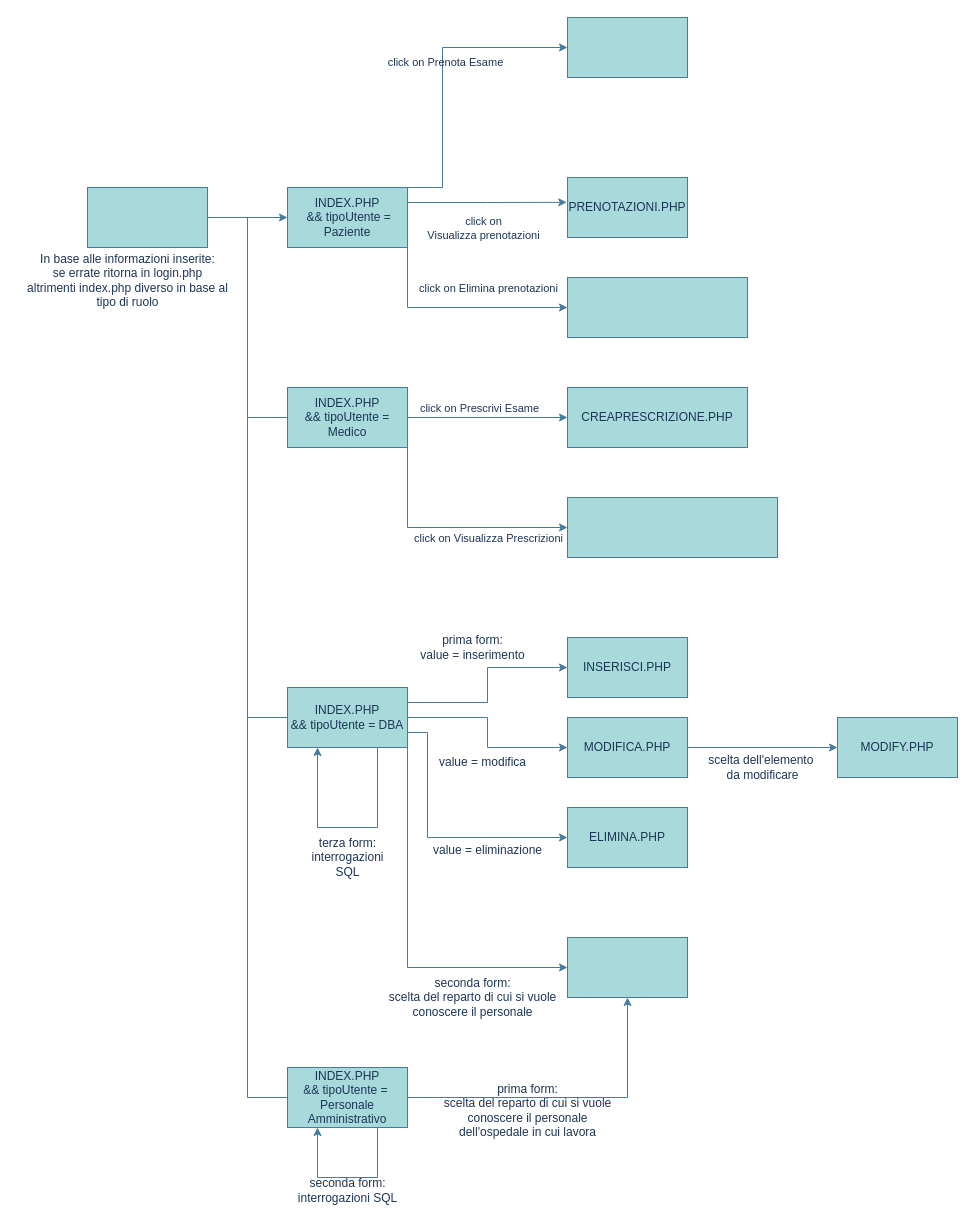
The diagram is 975 pixels wide and 1228 high, and some of its shapes have lost their labels. The centre of each missing label's shape, as x and y in pixels:
"ELIMINAPRENOTAZIONI:PHP" goes at [657,307].
"LOGIN.PHP" goes at [147,217].
"PRENOTA.PHP" goes at [627,47].
"VISUALIZZA.PHP" goes at [627,967].
"VISUALIZZAPRESCRIZIONE.PHP" goes at [672,527].
